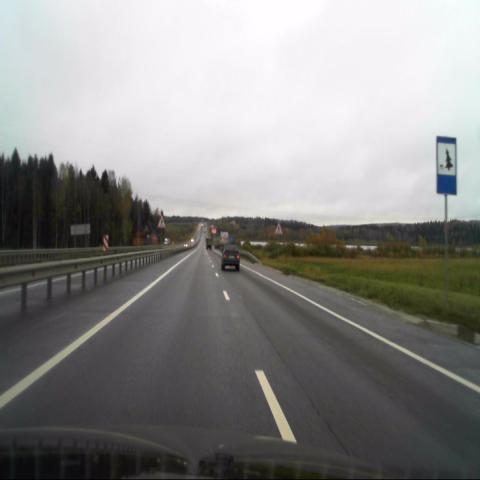7_11: (436, 134, 458, 195)
